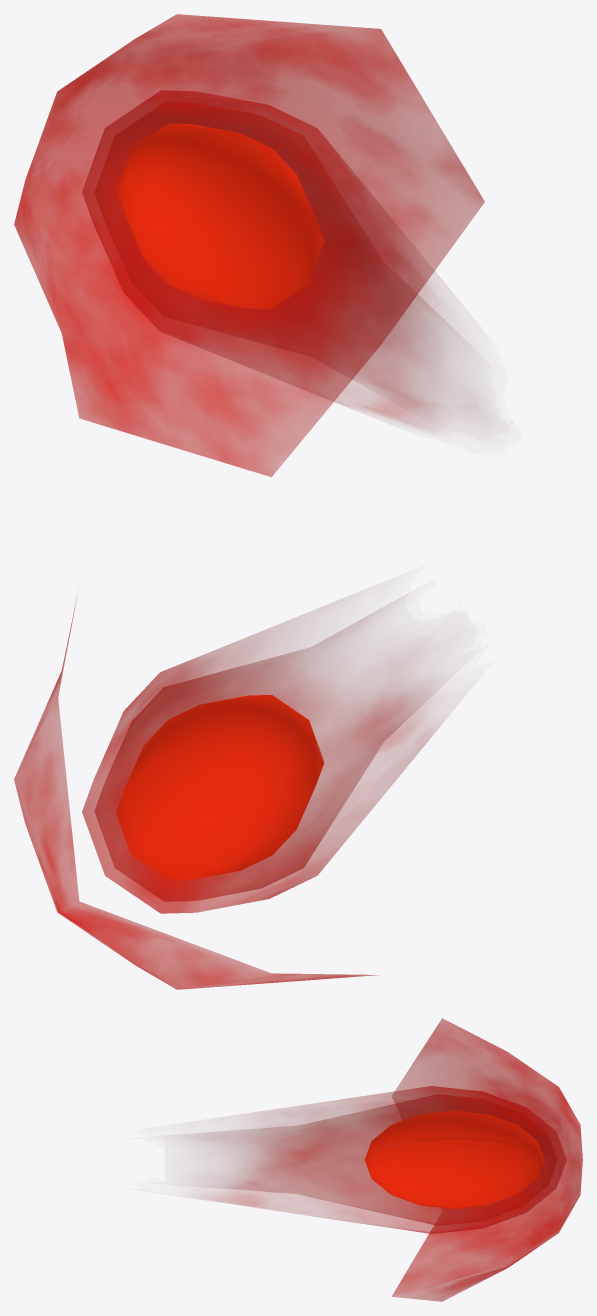
Rendered from Bullet.gltf.
The picture shows the model from 3 angles, top to bottom: view 1: azimuth 30°, elevation 25°; view 2: azimuth 150°, elevation 25°; view 3: azimuth 270°, elevation 25°; orthographic projection. The views are drawn at different scales.
Parts seen in each view (by area): view 1: Bullet.001; view 2: Bullet.001; view 3: Bullet.001.
Part boxes in pixels (x1,y1,x2,y2): Bullet.001: (14,14,484,476); Bullet.001: (14,596,443,989); Bullet.001: (184,1018,582,1301).
Size of the model in its own units: 3.59 by 3.59 by 6.76.
1 material, 1 textured.
